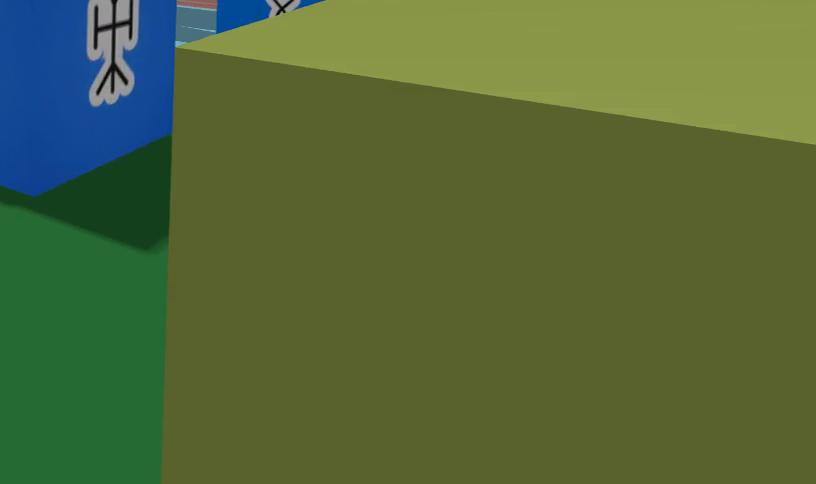KFS_REAL: (0, 0, 174, 195), (86, 0, 139, 106), (215, 0, 330, 32)
